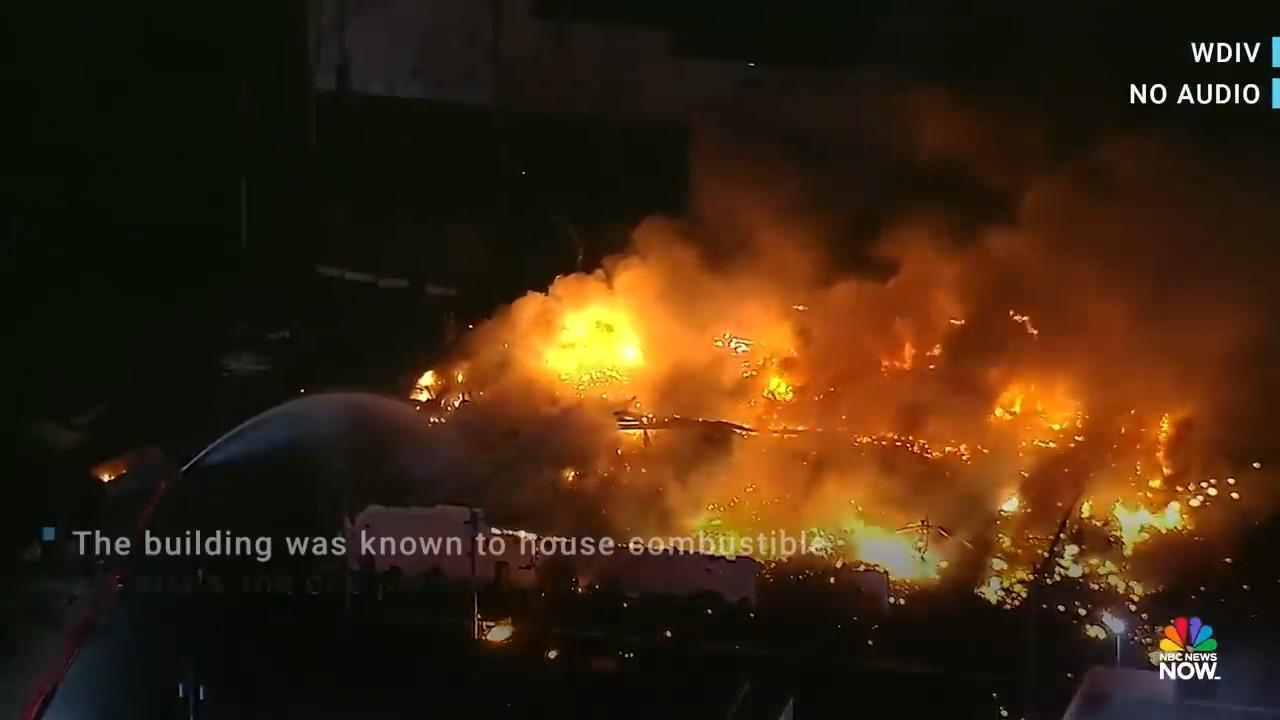fire: (859, 323, 1150, 464), (556, 287, 843, 421), (794, 457, 982, 583), (629, 436, 799, 536), (1156, 320, 1249, 456), (1063, 471, 1199, 538)
